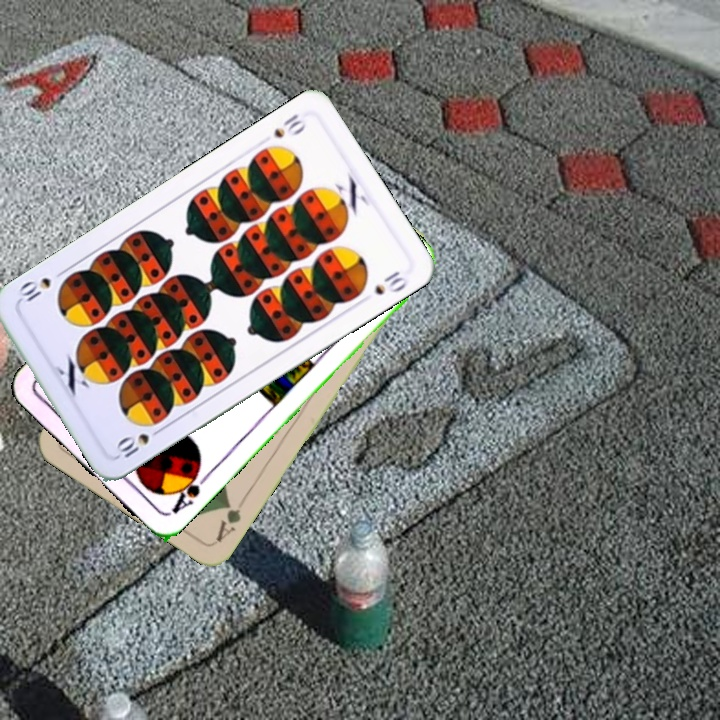GA: (211, 496, 244, 545)
S10: (111, 423, 167, 461), (269, 109, 308, 141)
SA: (167, 463, 212, 517)
